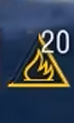1fire: (3, 57, 73, 89)
